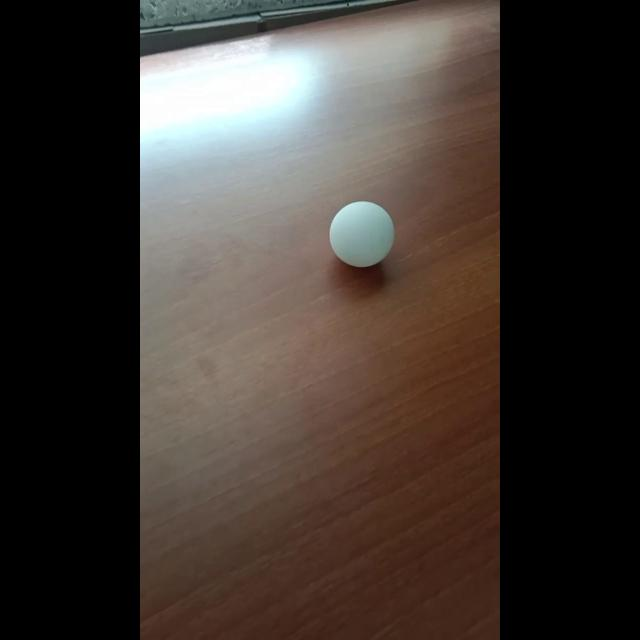white ball: (329, 200, 395, 268)
